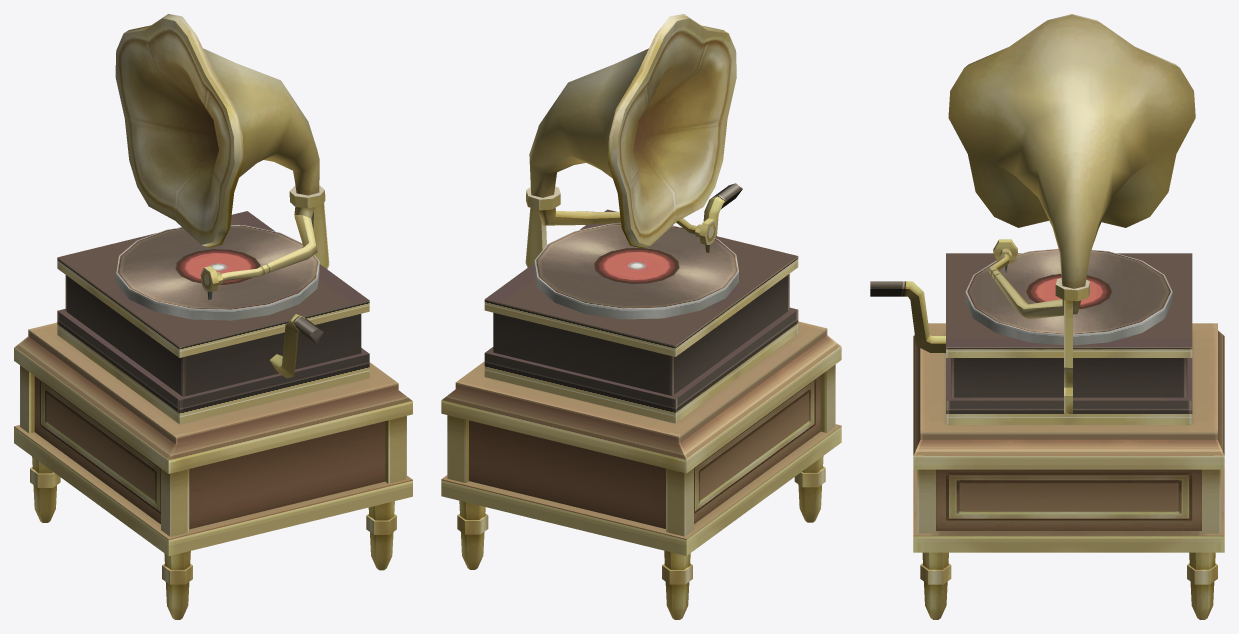
Rendered from my_teaparty_01_gramophone_01.glb.
3 views of the same model, side by side, from view 1: azimuth 30°, elevation 25°; view 2: azimuth 150°, elevation 25°; view 3: azimuth 270°, elevation 25° (orthographic).
Parts seen in each view (by area): view 1: my_teaparty_01_gramophone_01; view 2: my_teaparty_01_gramophone_01; view 3: my_teaparty_01_gramophone_01.
Part boxes in pixels (bbox=[...]): my_teaparty_01_gramophone_01: bbox=[14, 14, 412, 619]; my_teaparty_01_gramophone_01: bbox=[441, 14, 841, 619]; my_teaparty_01_gramophone_01: bbox=[870, 14, 1224, 619].
Bounding box in the file's own units: 0.00458 × 0.00959 × 0.00572.
Materials: 1 (1 with a texture image).
